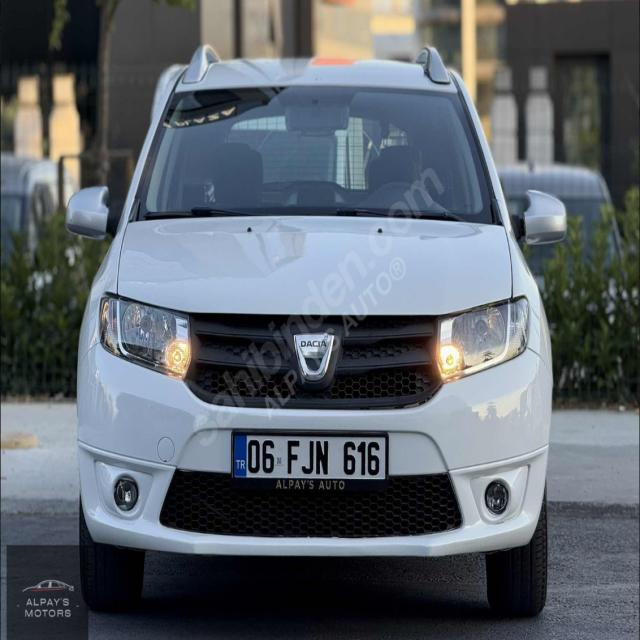dacia: (292, 330, 337, 384)
